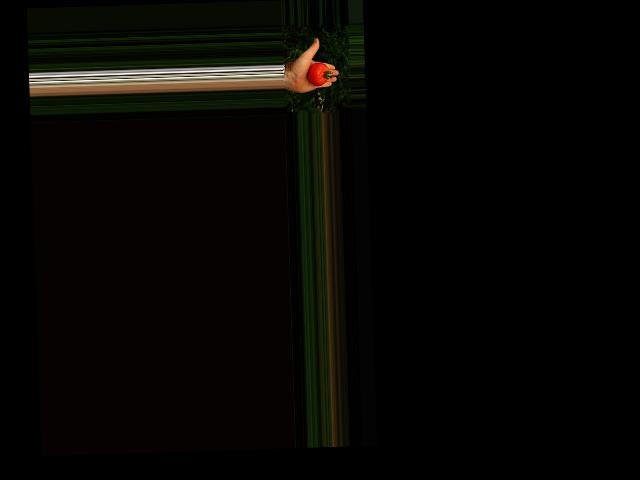tomato: (307, 62, 328, 87)
